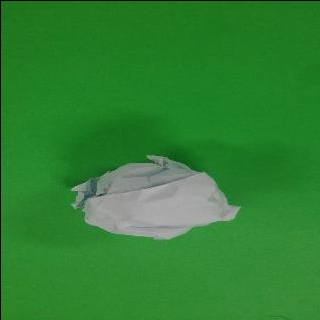8/可回收垃圾/纸: (70, 154, 241, 240)
